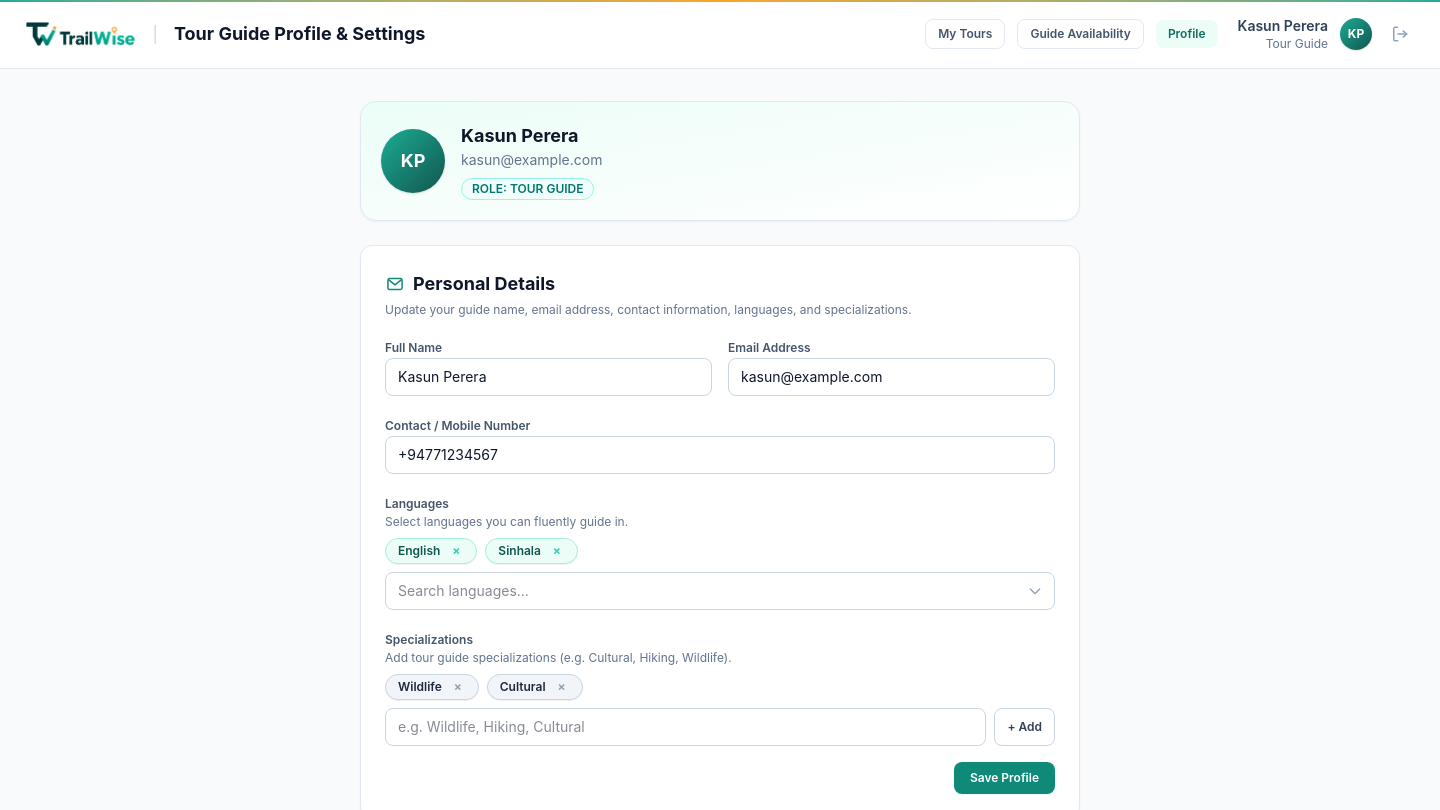
Test: GuideProfilePage › 1. clicking language field opens searchable picker
This screenshot has width=1440, height=810.
Click the dropdown with placeholder "Search languages..." at point(720, 591), box [385,572,1055,610]
(page scrolled)
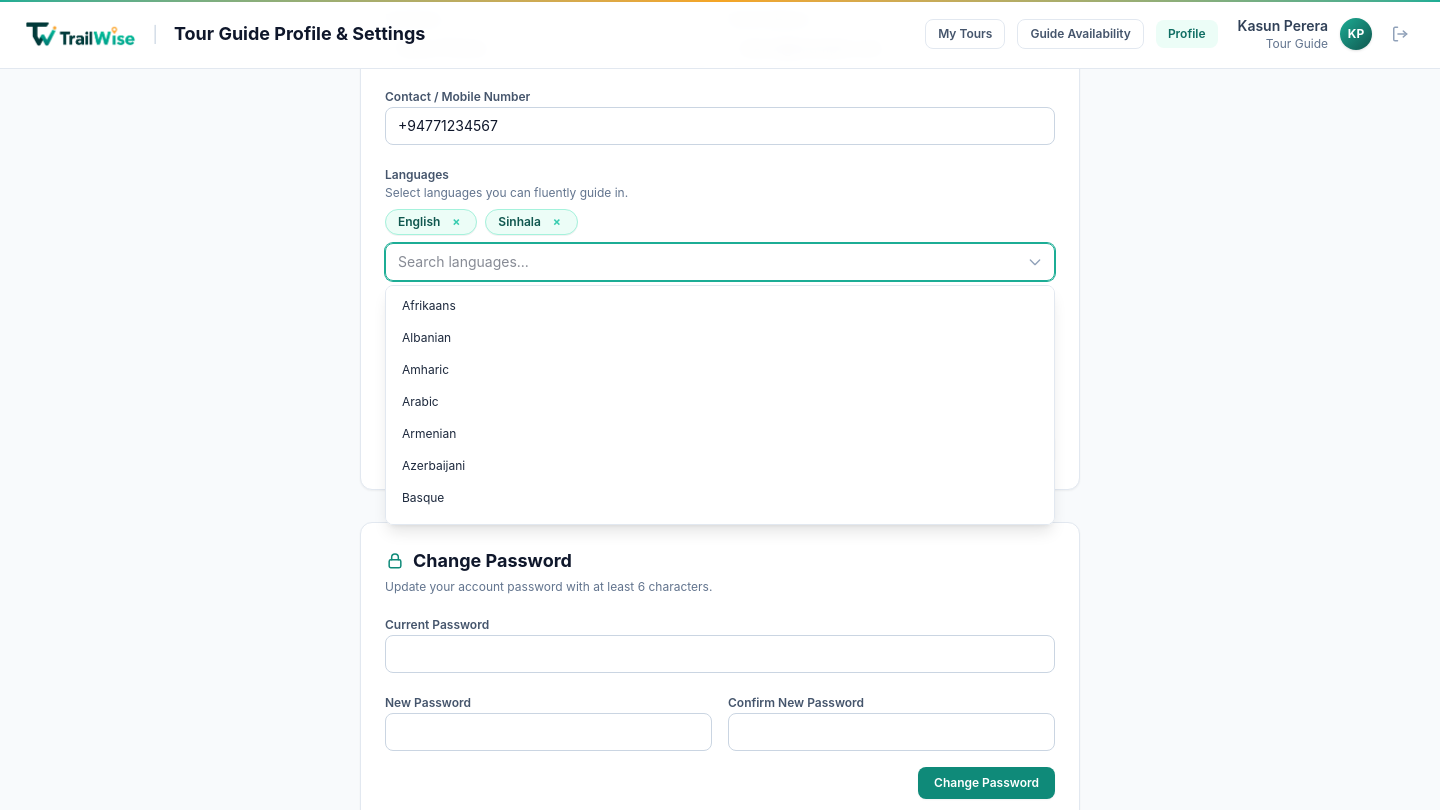
Expected: the list with test id "language-dropdown" is shown, [385,285,1055,525]
